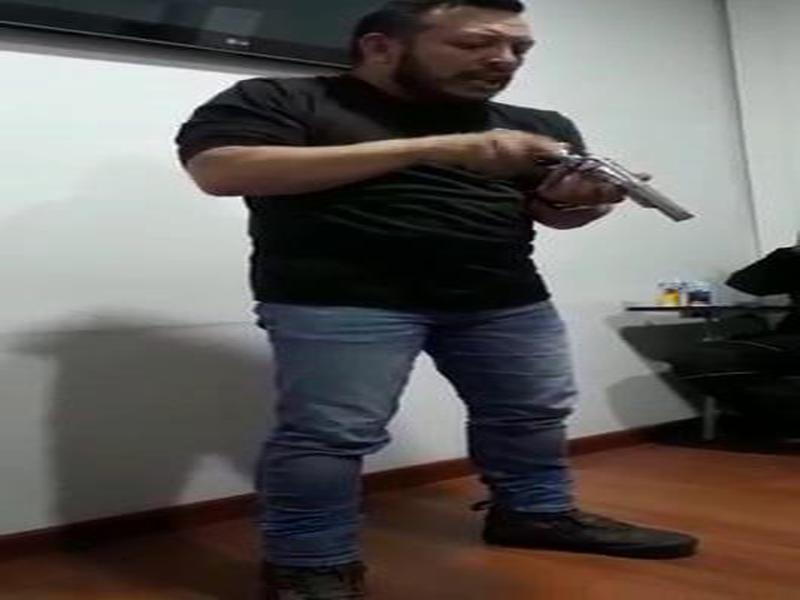Revolver: (514, 134, 694, 244)
